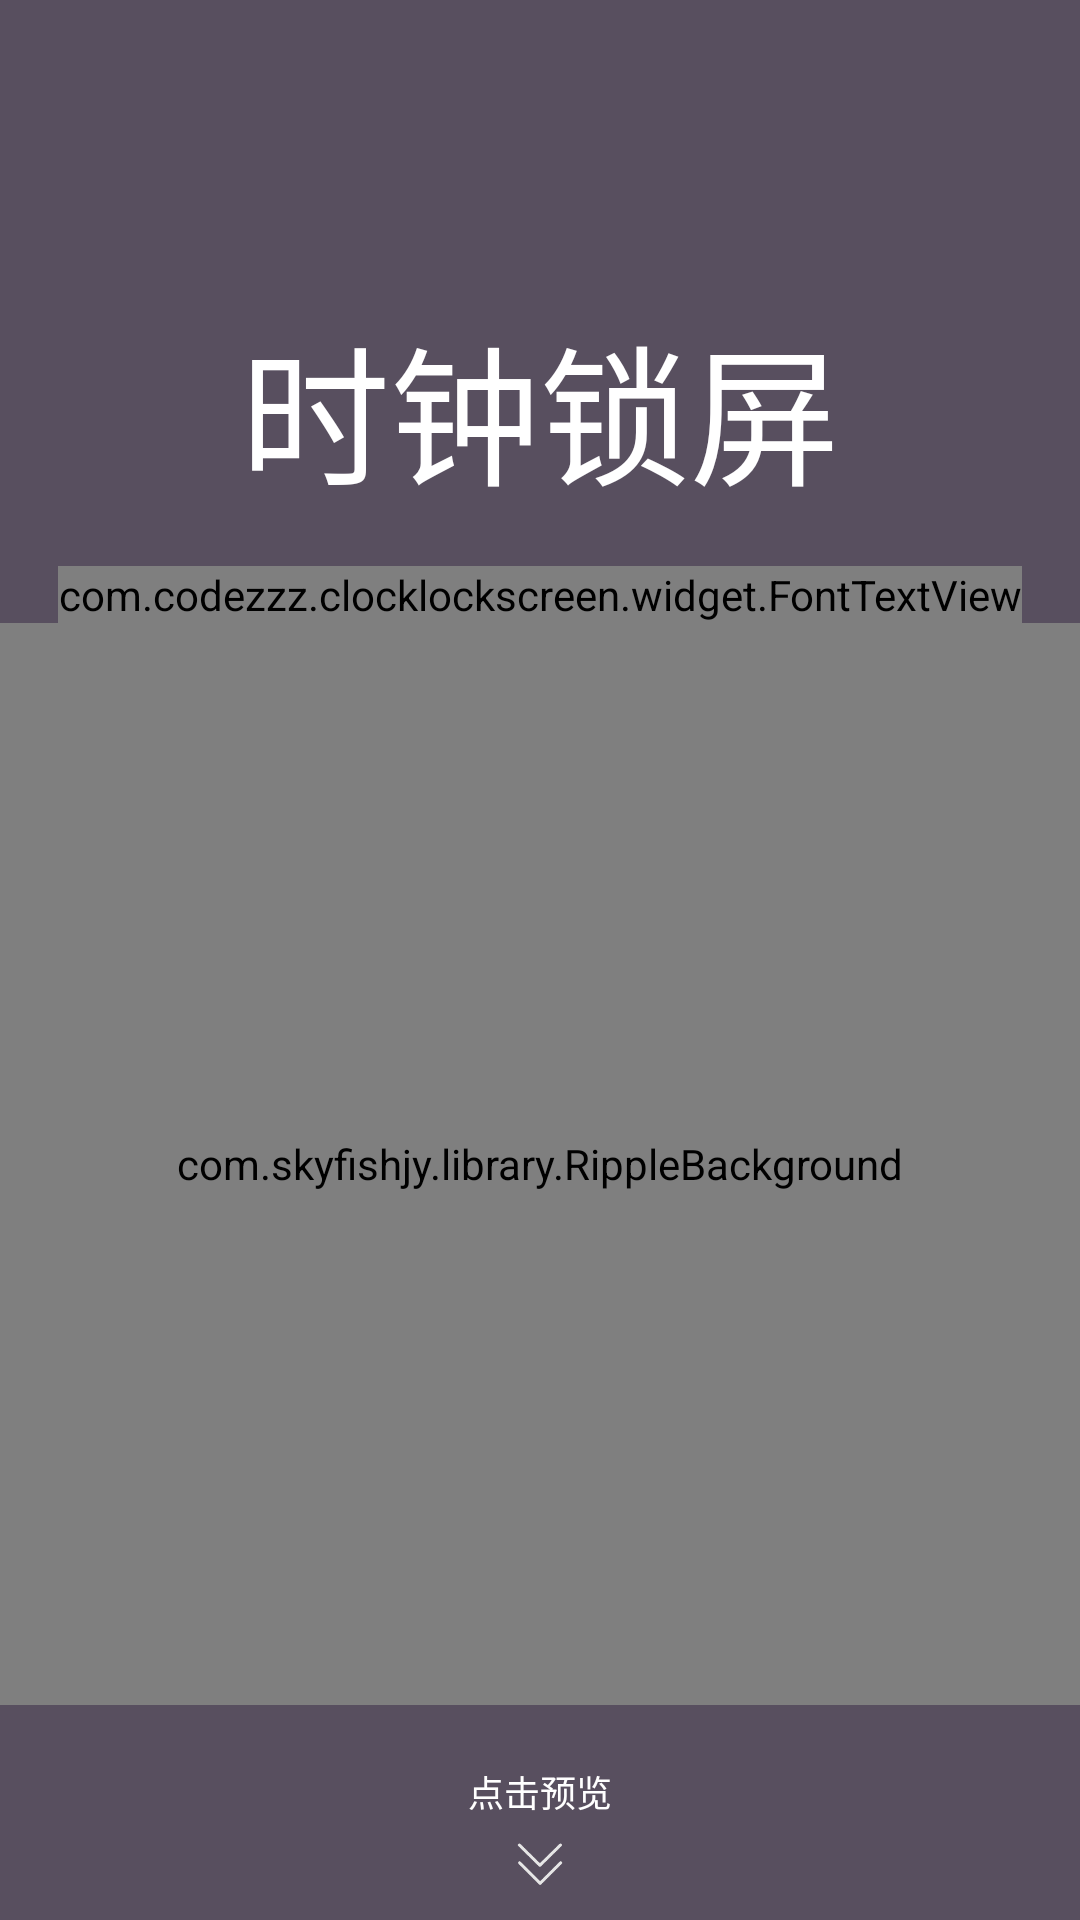

Locate icon controls on the screen. Image size 1080px x 1920px, boxes as Rect(x1, y1, x2, y2).
pull: Rect(518, 1843, 562, 1885)
